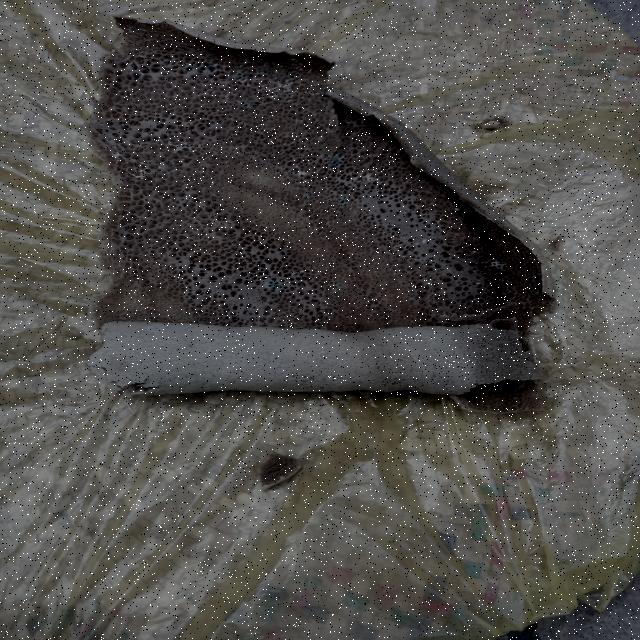injera_mold: (260, 79, 296, 99), (125, 162, 153, 180), (168, 141, 200, 155), (483, 256, 511, 270), (353, 170, 381, 184), (324, 153, 346, 168), (145, 322, 167, 333), (264, 280, 284, 291), (237, 99, 255, 109), (288, 269, 307, 278), (330, 284, 344, 294), (225, 91, 236, 100), (282, 70, 296, 77), (261, 68, 273, 76), (204, 64, 216, 72), (296, 170, 308, 177), (237, 78, 250, 84), (111, 151, 122, 158), (339, 197, 349, 204), (185, 65, 194, 72), (235, 70, 245, 76), (302, 192, 311, 198), (422, 237, 428, 245), (257, 209, 265, 215), (454, 206, 461, 212), (210, 180, 217, 185), (475, 282, 482, 286), (296, 165, 298, 168)
